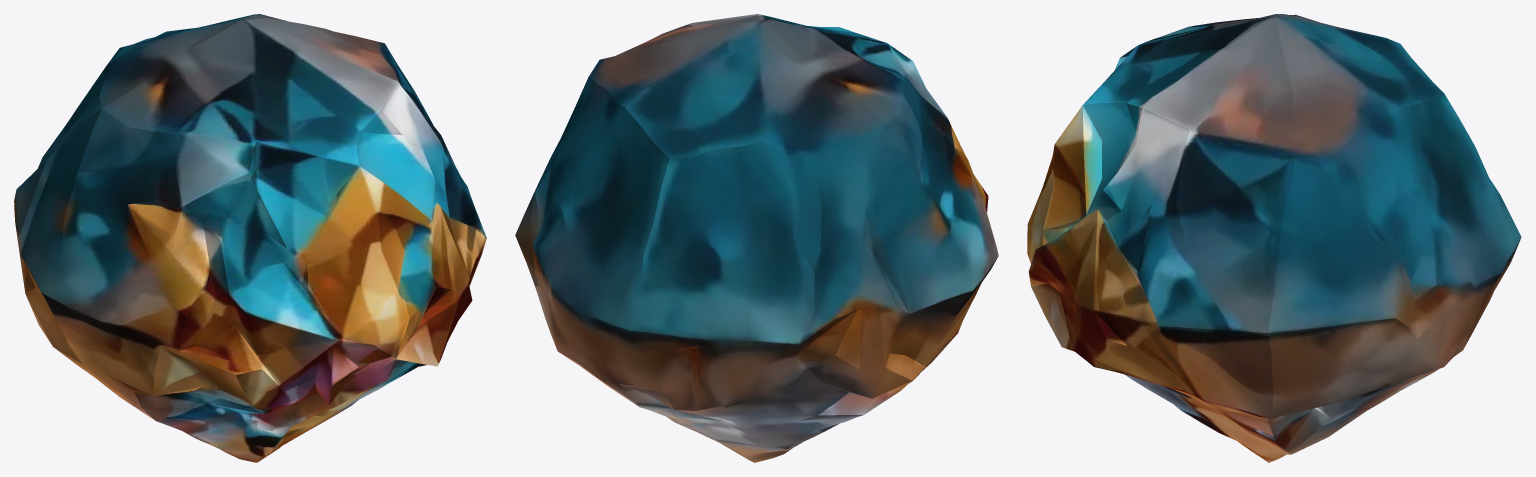
File: m2EnergyGem.glb
3 views of the same model, side by side, from view 1: azimuth 30°, elevation 25°; view 2: azimuth 150°, elevation 25°; view 3: azimuth 270°, elevation 25° (orthographic).
Visible parts, largest first — view 1: model; view 2: model; view 3: model.
Boxes of the visible parts, x1,y1,x2,y2 form: model: [14, 14, 486, 462]; model: [515, 14, 998, 462]; model: [1027, 14, 1521, 462].
Bounding box in the file's own units: 1.87 × 1.87 × 1.89.
1 material, 1 textured.
